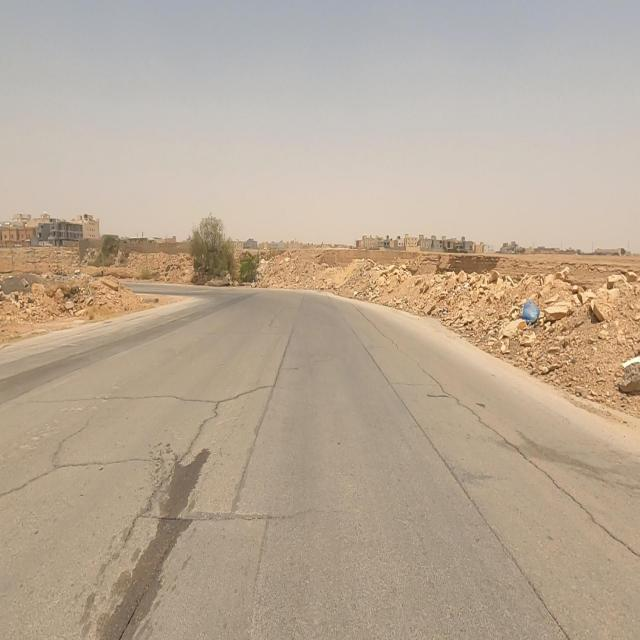debris: (493, 271, 568, 351)
